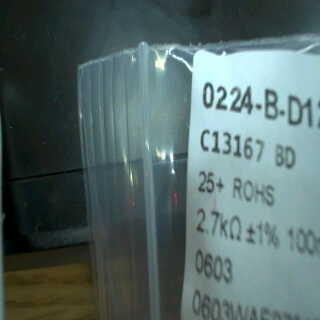2.7kR: (192, 202, 243, 242)
